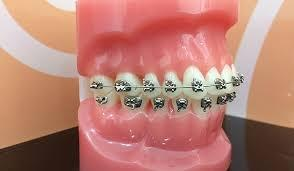Braces: (90, 74, 250, 113)
